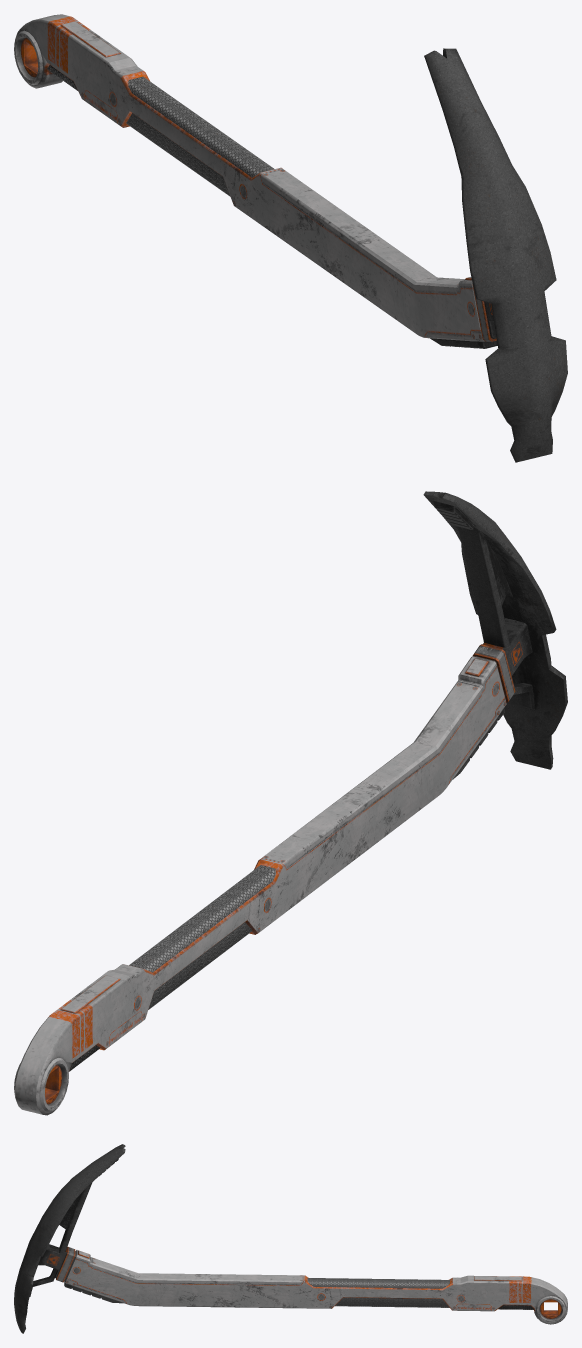
Rendered from MiningTool_SciFi_BS.fbx.
3 renders of one model, top to bottom at view 1: azimuth 30°, elevation 25°; view 2: azimuth 150°, elevation 25°; view 3: azimuth 270°, elevation 25°, orthographic. The views are drawn at different scales.
Visible parts, largest first — view 1: MiningTool_SciFi_BS; view 2: MiningTool_SciFi_BS; view 3: MiningTool_SciFi_BS.
Part boxes in pixels (x1,y1,x2,y2): MiningTool_SciFi_BS: [14, 14, 567, 462]; MiningTool_SciFi_BS: [14, 491, 567, 1115]; MiningTool_SciFi_BS: [14, 1144, 567, 1333].
Size of the model in its own units: 8.42 by 35.04 by 96.36.
1 material, 1 textured.
